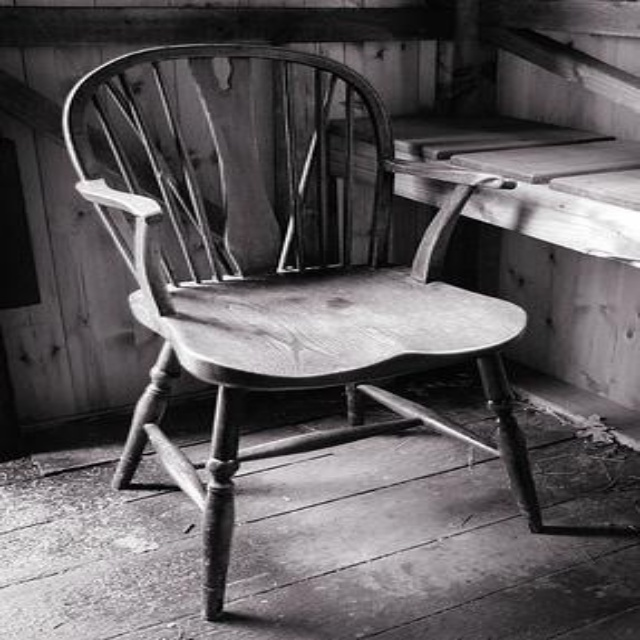obstacle: (62, 44, 540, 618)
